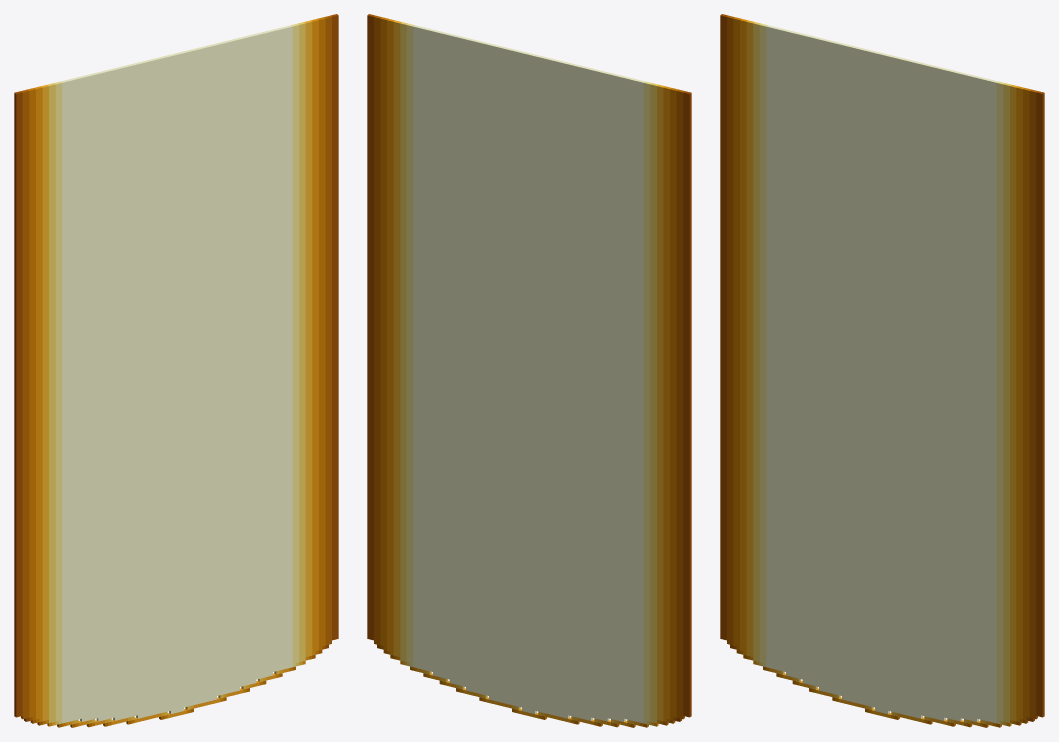
The model's file is Fight_757_2_13_fx.obj.
3 renders of one model, left to right at view 1: azimuth 30°, elevation 25°; view 2: azimuth 150°, elevation 25°; view 3: azimuth 330°, elevation 25°, orthographic.
Bounding box in the file's own units: 9.8 × 19.2 × 0.1.
